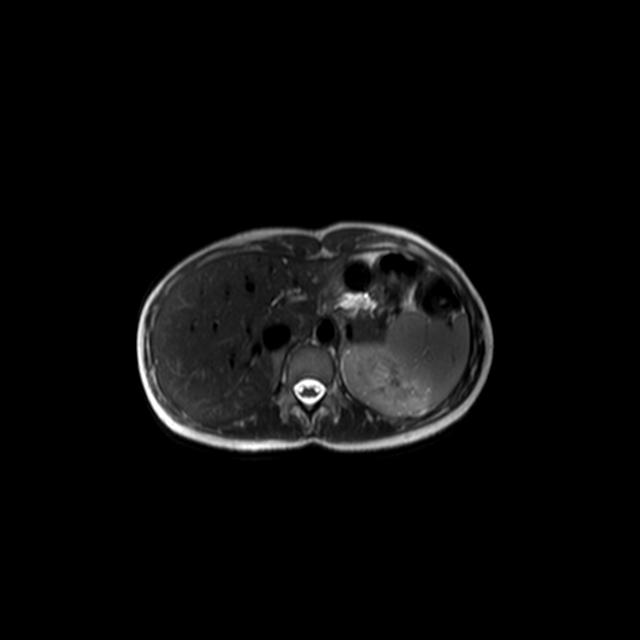sol: (340, 343, 430, 417)
